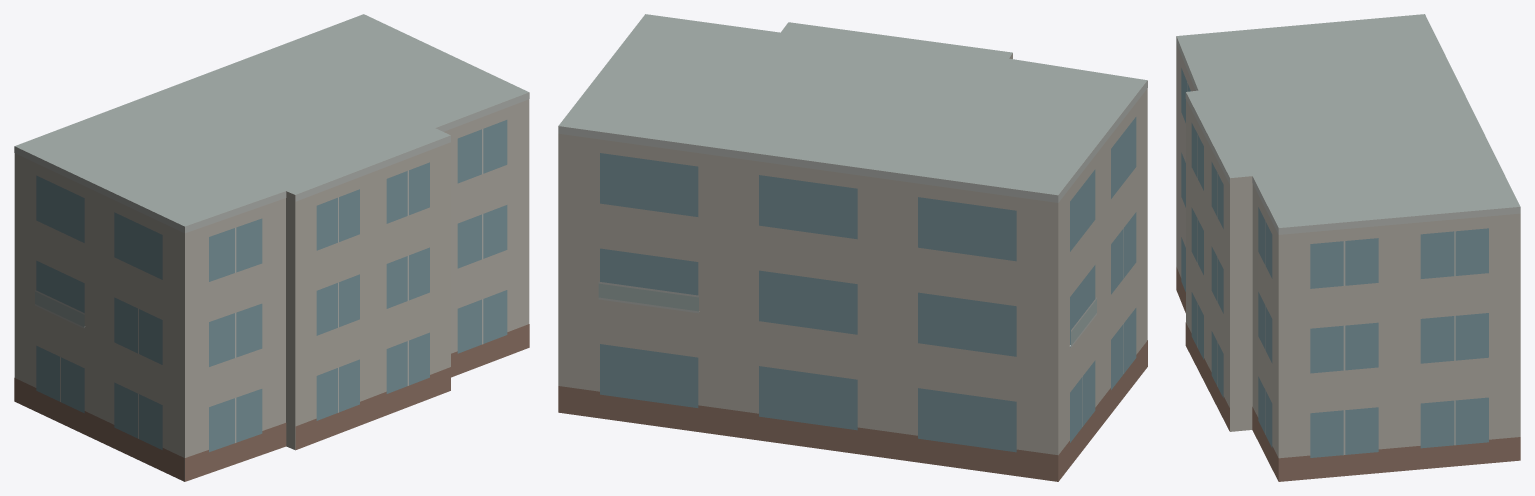
File: survey-upis-33040282.glb
3 renders of one model, left to right at view 1: azimuth 30°, elevation 25°; view 2: azimuth 150°, elevation 25°; view 3: azimuth 270°, elevation 25°, orthographic. The views are drawn at different scales.
Parts seen in each view (by area): view 1: survey-upis-33040282.tmp; view 2: survey-upis-33040282.tmp; view 3: survey-upis-33040282.tmp.
Part boxes in pixels (left/top/right/bottom): survey-upis-33040282.tmp: left=14, top=14, right=529, bottom=481; survey-upis-33040282.tmp: left=558, top=14, right=1147, bottom=481; survey-upis-33040282.tmp: left=1176, top=14, right=1520, bottom=481.
Size of the model in its own units: 16.57 by 9.15 by 11.26.
